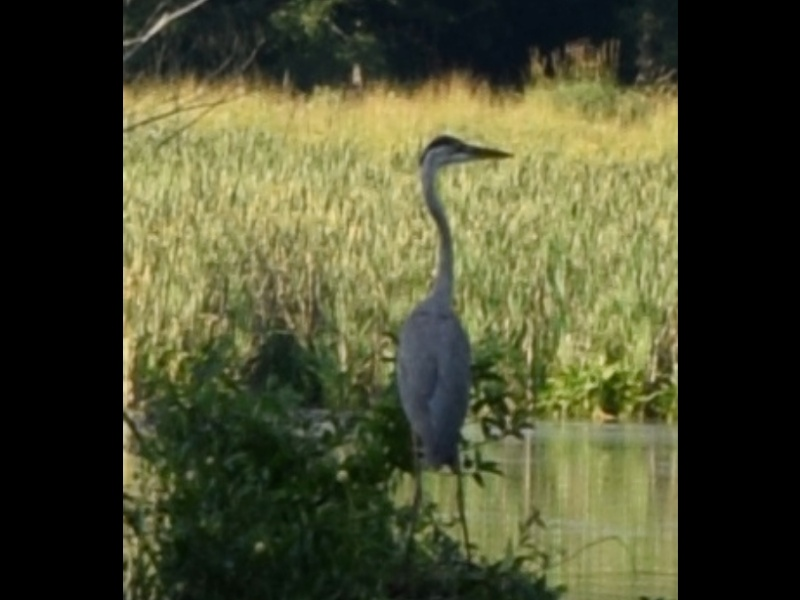heron: (389, 131, 516, 558)
